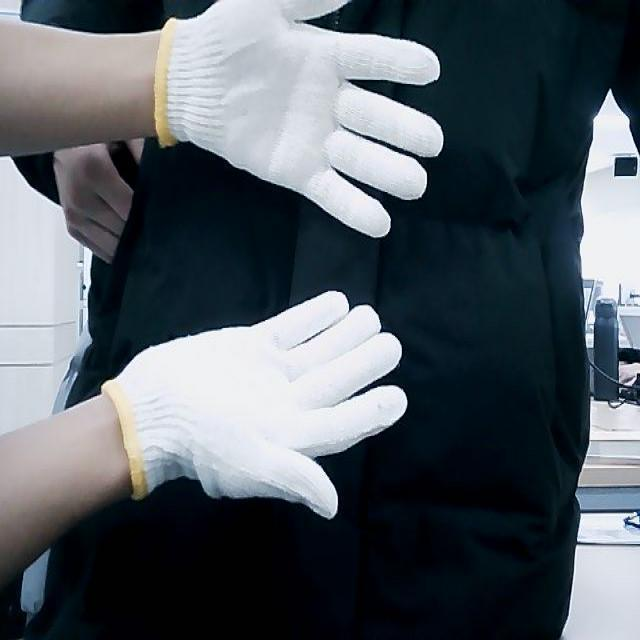GLOVE: (104, 289, 410, 522), (156, 0, 447, 239)
